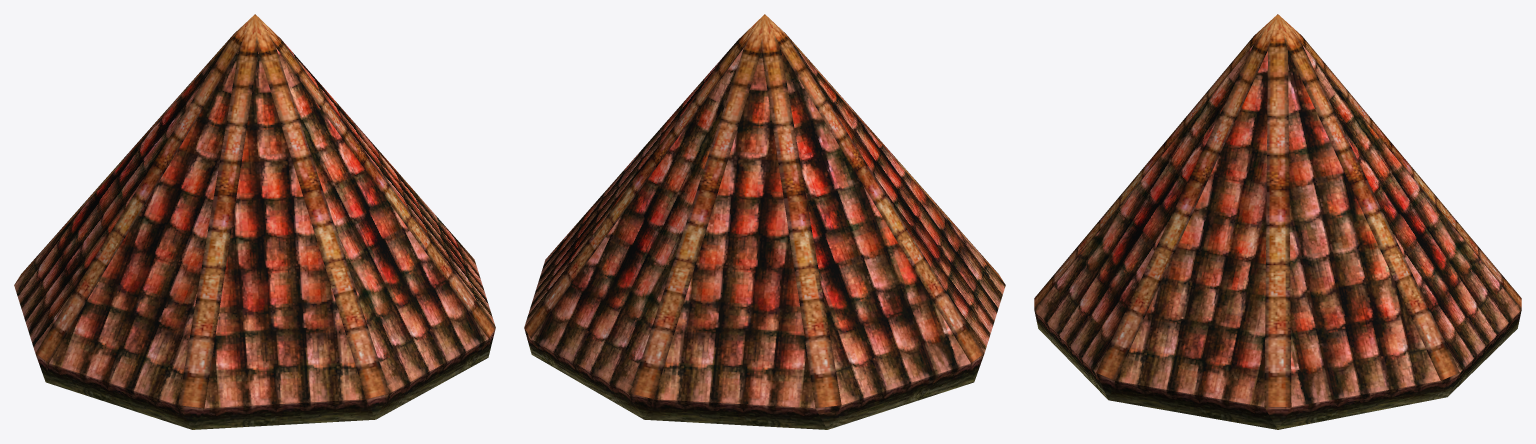
3 views of the same model, side by side, from view 1: azimuth 30°, elevation 25°; view 2: azimuth 150°, elevation 25°; view 3: azimuth 270°, elevation 25° (orthographic).
Parts seen in each view (by area): view 1: cc45; view 2: cc45; view 3: cc45.
Boxes of the visible parts, x1,y1,x2,y2 form: cc45: (14, 14, 495, 429); cc45: (524, 14, 1005, 429); cc45: (1034, 14, 1521, 429).
Size of the model in its own units: 4.54 by 3.23 by 4.54.
Materials: 4 (4 with a texture image).
